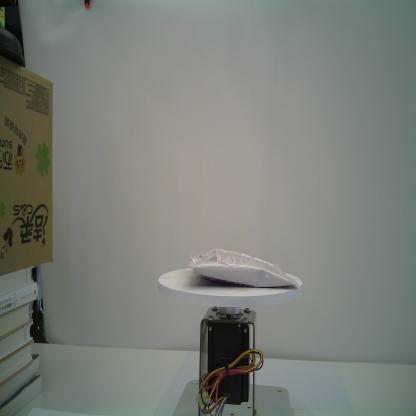Instant Drink: (184, 248, 302, 288)
